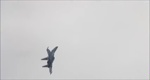maybay_muctieu: (41, 46, 59, 75)
